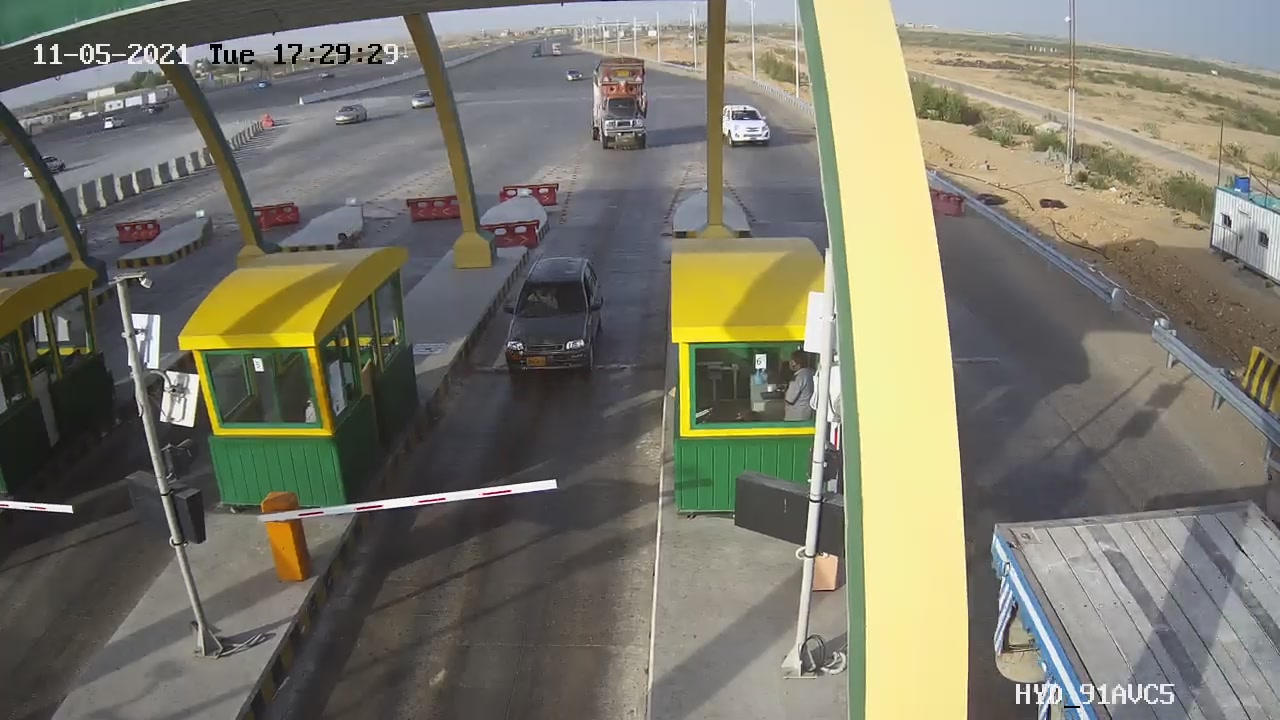F1: (478, 242, 626, 392)
